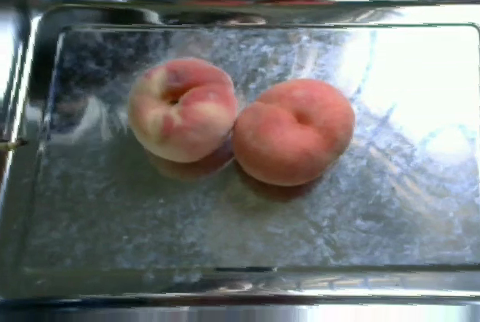Peach: (232, 79, 355, 184), (130, 56, 240, 164)
